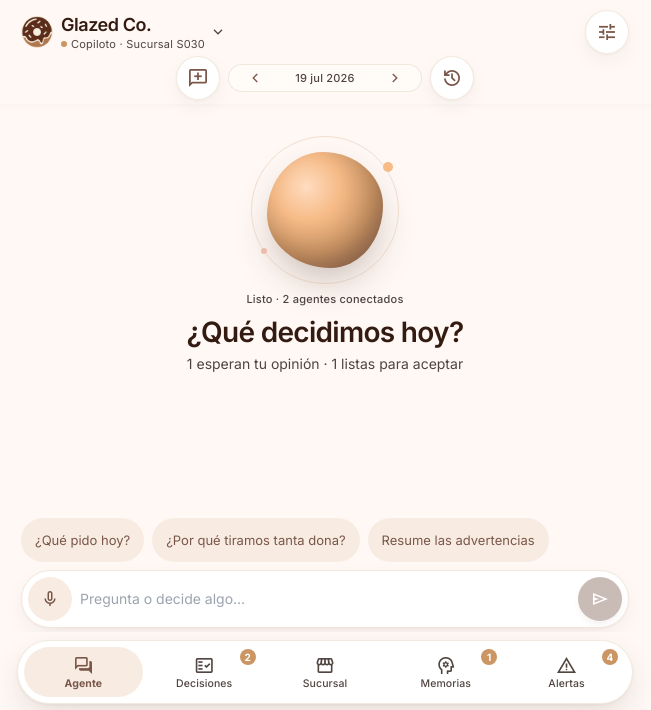
Memorias window › shows an honest empty state when nothing matches
The image size is (651, 710).
Click the button "Memorias 1" at (446, 672), box [386, 647, 505, 697]
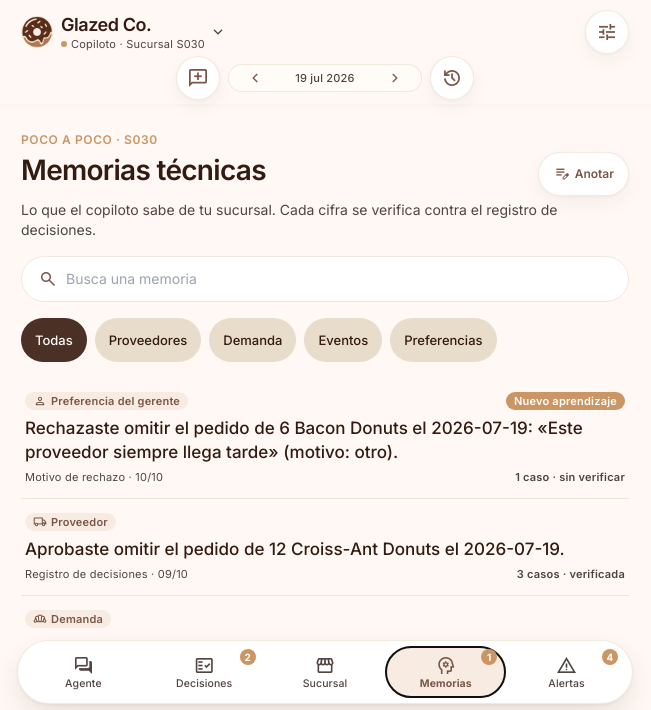
Type "zzzz" into the search field named "Buscar una memoria" at (339, 279), box [66, 269, 612, 289]
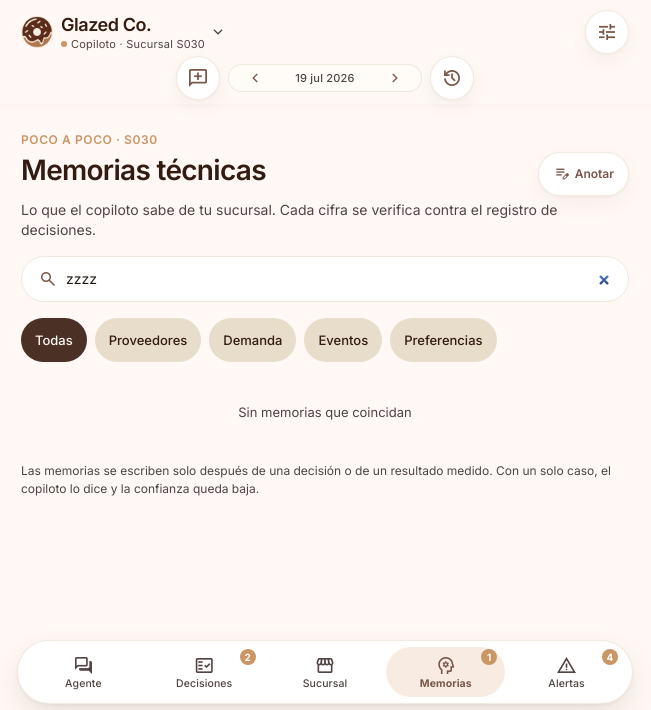
expect the text "Sin memorias que coincidan" is shown: met, box [238, 404, 412, 420]
